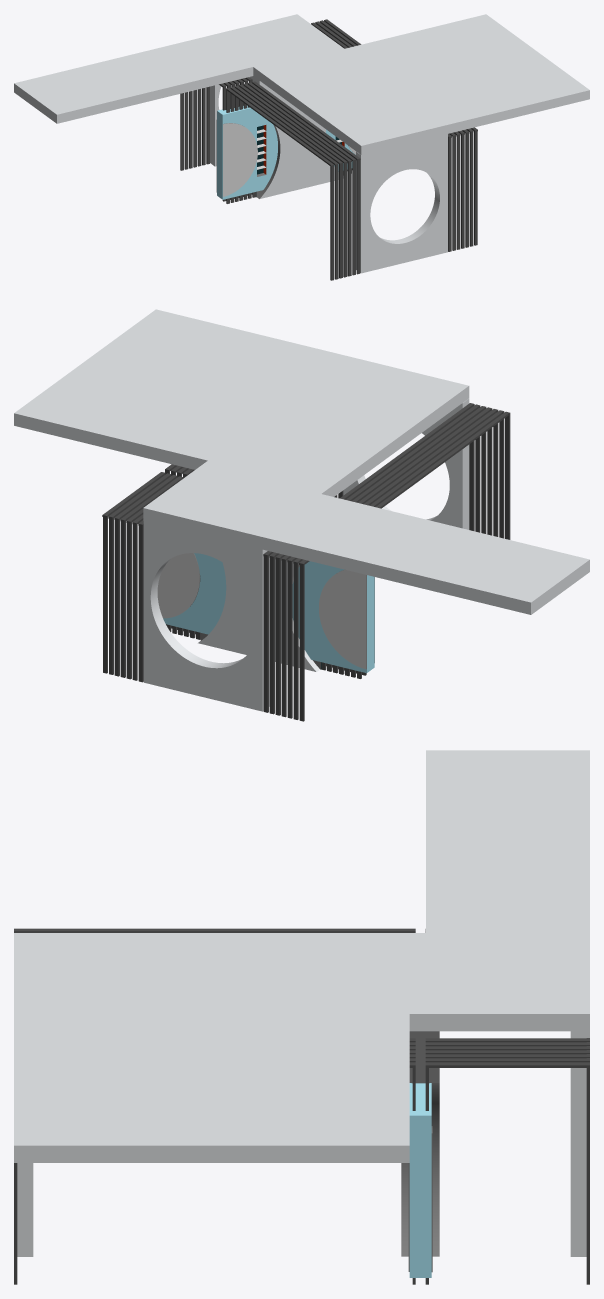
The model's file is wall fix.FBX.
3 renders of one model, top to bottom at view 1: azimuth 30°, elevation 25°; view 2: azimuth 150°, elevation 25°; view 3: azimuth 270°, elevation 25°, orthographic. The views are drawn at different scales.
Visible parts, largest first — view 1: Walls 1 Walls 1 [485042]001; view 2: Walls 1 Walls 1 [485042]001; view 3: Walls 1 Walls 1 [485042]001.
Boxes of the visible parts, bbox=[...] form: Walls 1 Walls 1 [485042]001: bbox=[14, 14, 589, 280]; Walls 1 Walls 1 [485042]001: bbox=[14, 309, 589, 721]; Walls 1 Walls 1 [485042]001: bbox=[14, 750, 589, 1284].
Size of the model in its own units: 1489 by 427 by 916.
